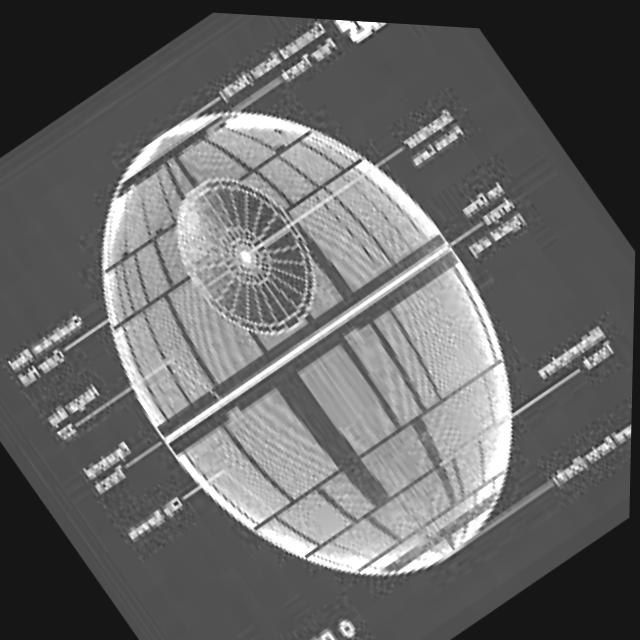death-stars: (100, 108, 514, 573)
